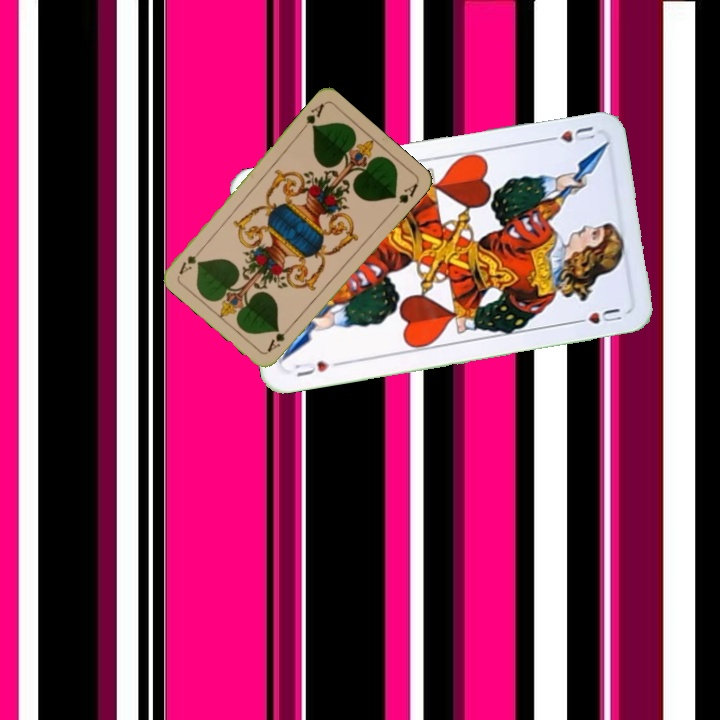GA: (263, 321, 294, 355), (297, 99, 327, 134)
HU: (540, 122, 598, 147), (290, 357, 344, 380)
